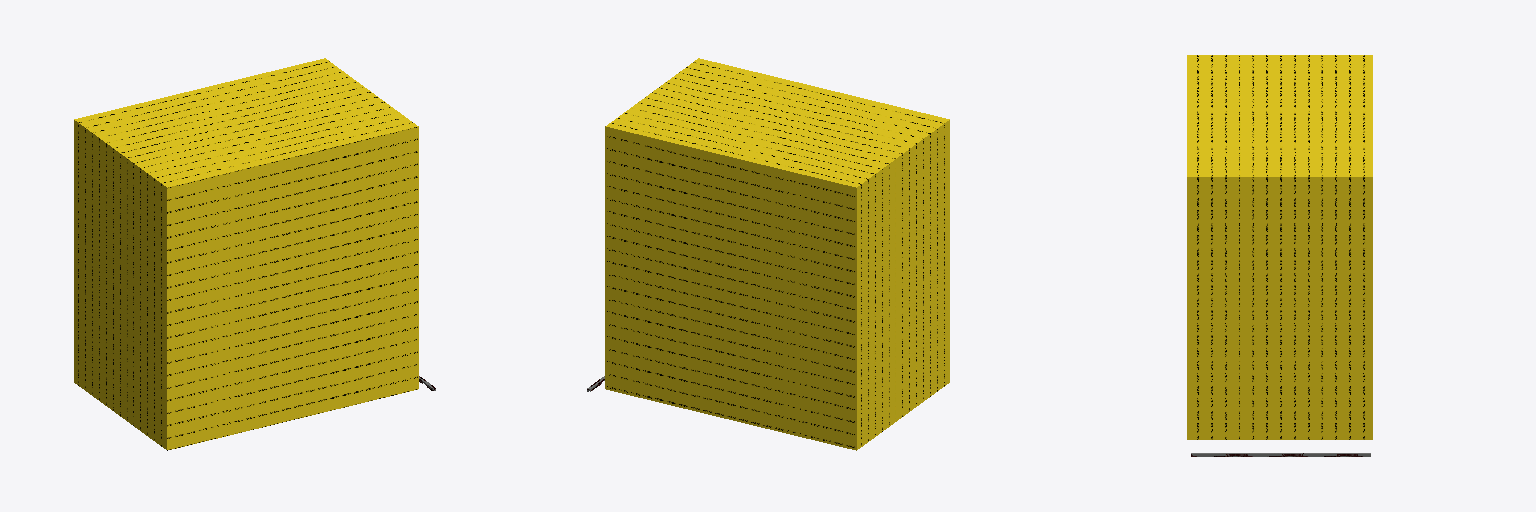
The picture shows the model from 3 angles: view 1: azimuth 30°, elevation 25°; view 2: azimuth 150°, elevation 25°; view 3: azimuth 270°, elevation 25°; orthographic projection.
Visible parts, largest first — view 1: 41, 33, 36, 2, 35; view 2: 2, 33, 36, 41, 35; view 3: 34, 33, 41, 2.
Boxes of the visible parts, box(x1,y1,x2,y2) form: 41: box(165, 125, 418, 450); 33: box(75, 59, 415, 191); 36: box(75, 127, 164, 441); 2: box(74, 58, 325, 382); 35: box(75, 377, 164, 448); 2: box(605, 126, 857, 450); 33: box(607, 60, 947, 192); 36: box(858, 128, 947, 442); 41: box(697, 58, 949, 383); 35: box(858, 378, 947, 448); 34: box(1191, 183, 1370, 439); 33: box(1191, 55, 1370, 182); 41: box(1187, 55, 1190, 439); 2: box(1371, 55, 1372, 439).
Bounding box in the file's own units: 362 × 346 × 216.
Materials: 7 (7 with a texture image).